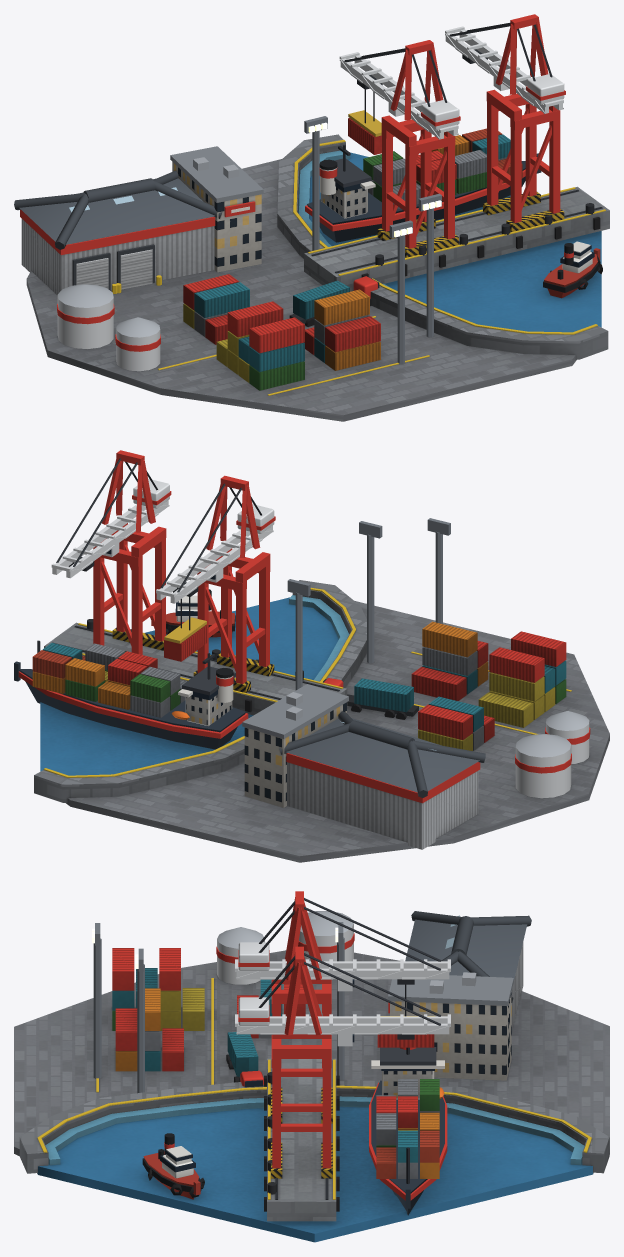
The model's file is port_modern_red.glb.
3 renders of one model, top to bottom at view 1: azimuth 30°, elevation 25°; view 2: azimuth 150°, elevation 25°; view 3: azimuth 270°, elevation 25°, orthographic. The views are drawn at different scales.
Parts seen in each view (by area): view 1: port_modern_red; view 2: port_modern_red; view 3: port_modern_red.
Part boxes in pixels (x1,y1,x2,y2): port_modern_red: (14, 14, 609, 421); port_modern_red: (14, 450, 609, 862); port_modern_red: (14, 891, 609, 1242).
Bounding box in the file's own units: 1.58 × 0.624 × 1.37.
Materials: 2 (1 with a texture image).
